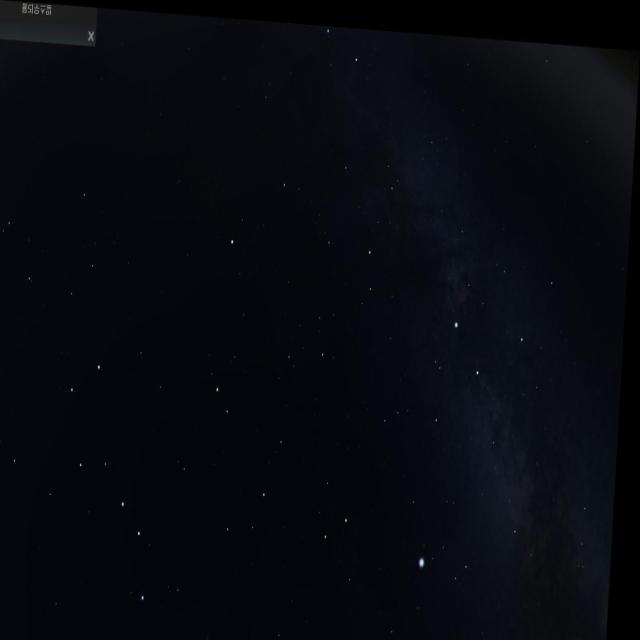cygnus: (422, 296, 540, 528)
lyra: (417, 509, 492, 586)
ursa_major: (55, 351, 185, 603)
